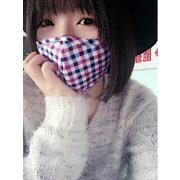OK: (36, 8, 119, 91)
